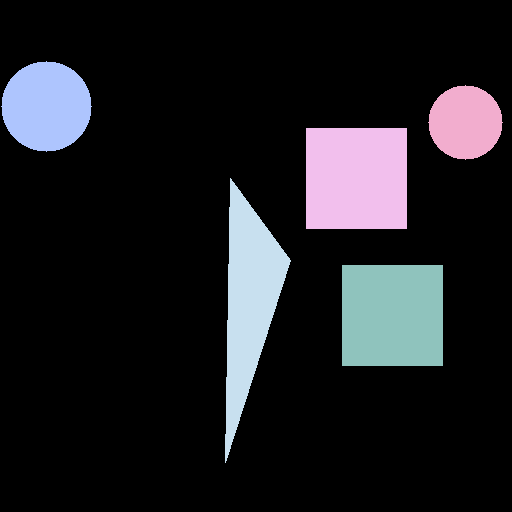circle: (1, 61, 91, 151), (428, 85, 502, 159)
square: (342, 265, 442, 365), (306, 128, 406, 228)
triangle: (225, 178, 290, 462)
